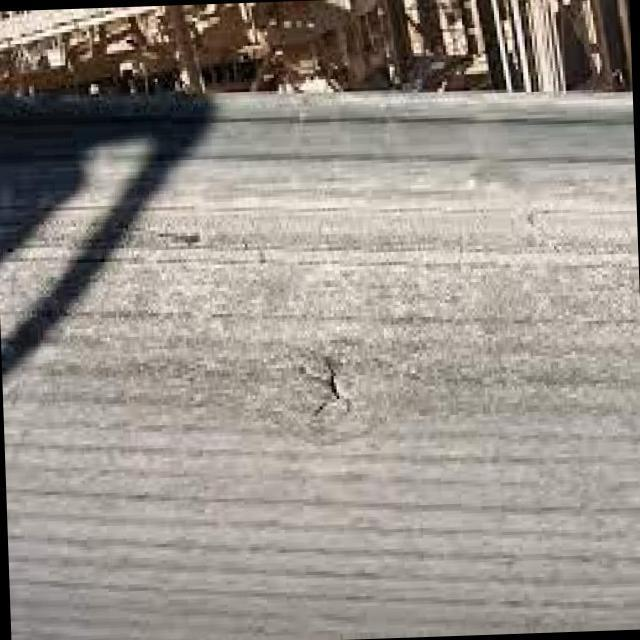Tear: (301, 338, 364, 421)
